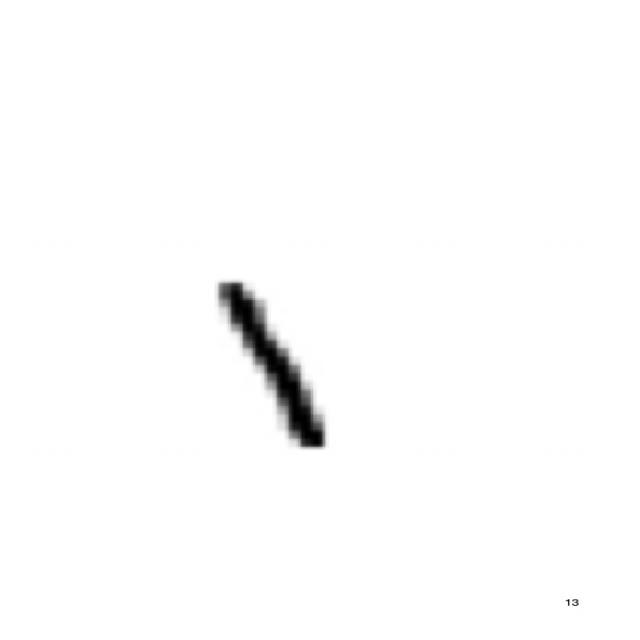1 -one-: (196, 266, 350, 476)
